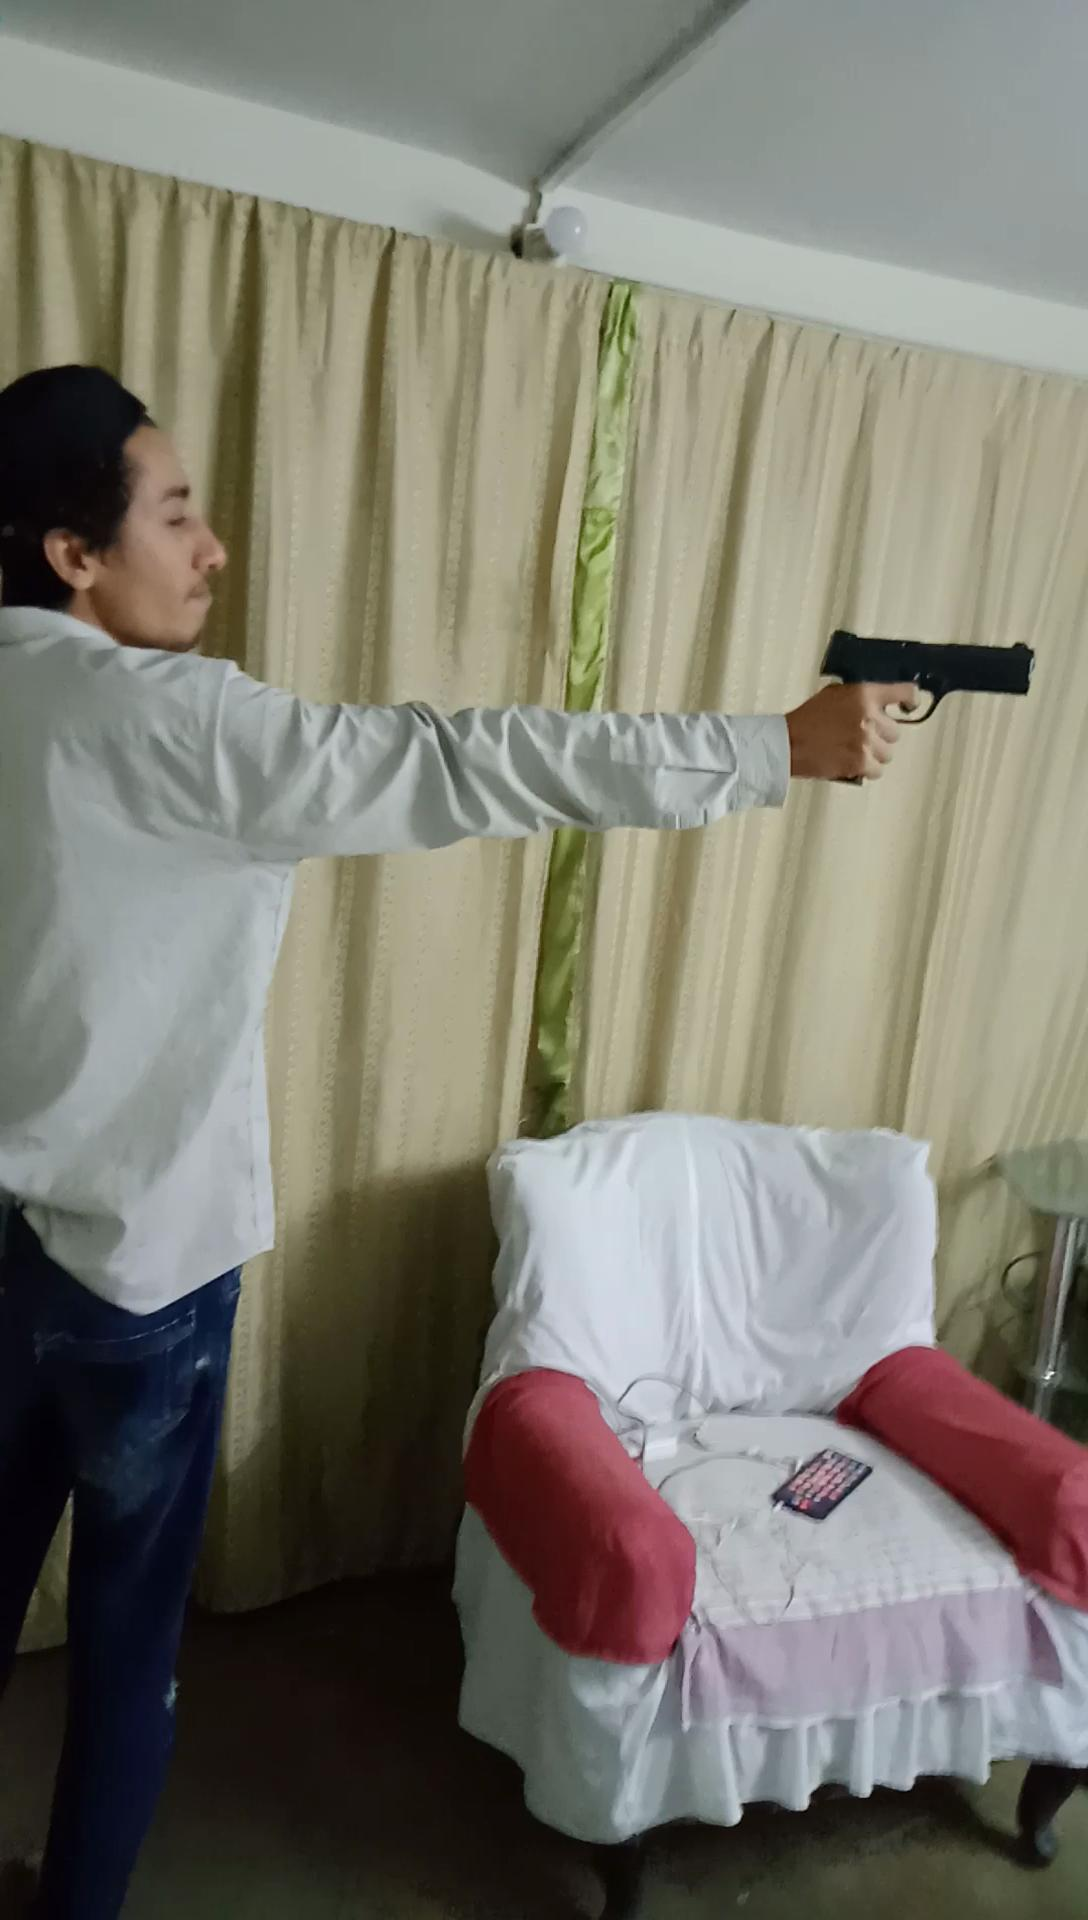criminal: (0, 356, 1046, 1920)
weapon: (795, 616, 1046, 796)
